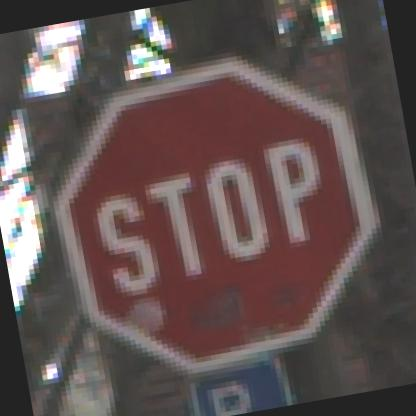stop: (34, 40, 415, 406)
